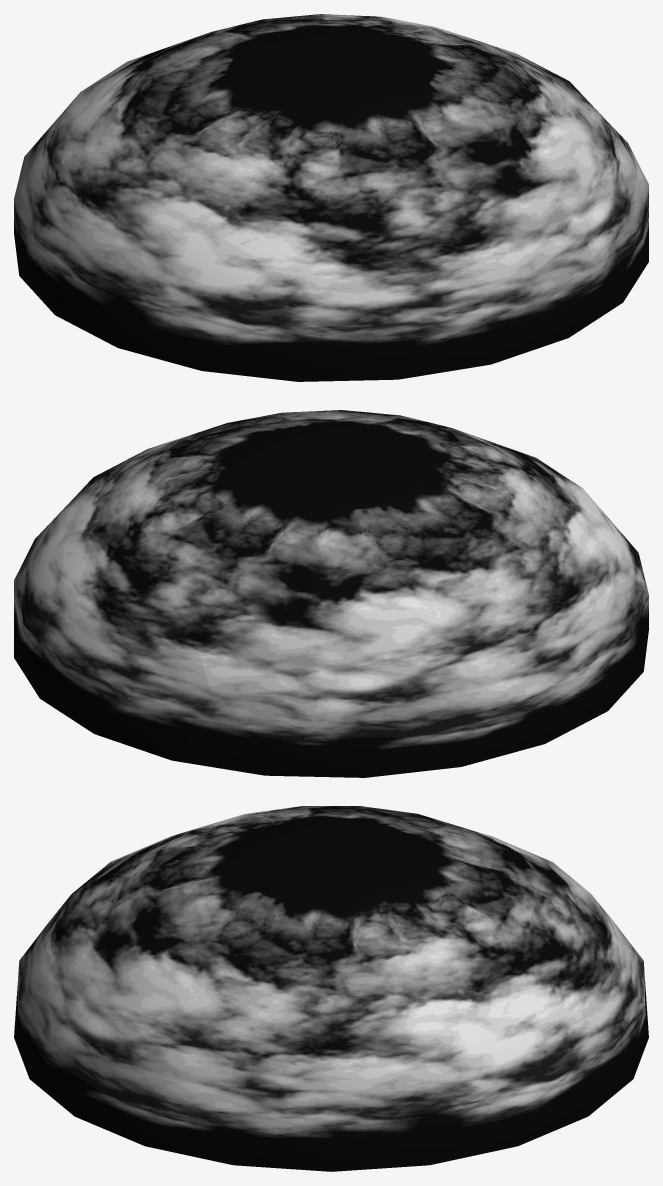
File: koopa_sky.dae
3 views of the same model, one above another, from view 1: azimuth 30°, elevation 25°; view 2: azimuth 150°, elevation 25°; view 3: azimuth 270°, elevation 25° (orthographic).
Parts seen in each view (by area): view 1: n3b0; view 2: n3b0; view 3: n3b0.
Part boxes in pixels (x1,y1,x2,y2): n3b0: (14,14,648,381); n3b0: (14,410,648,777); n3b0: (14,806,648,1171).
Size of the model in its own units: 226330 by 75127 by 226330.
4 materials, 4 textured.
